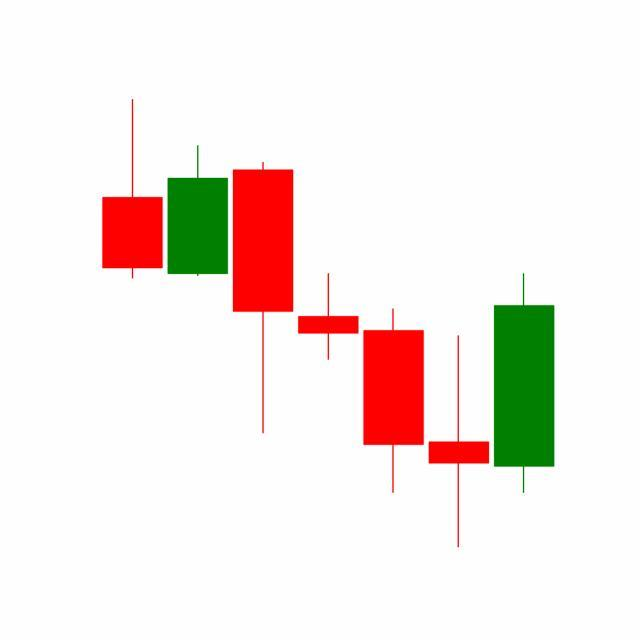Three Line Strike: (294, 270, 555, 549)
